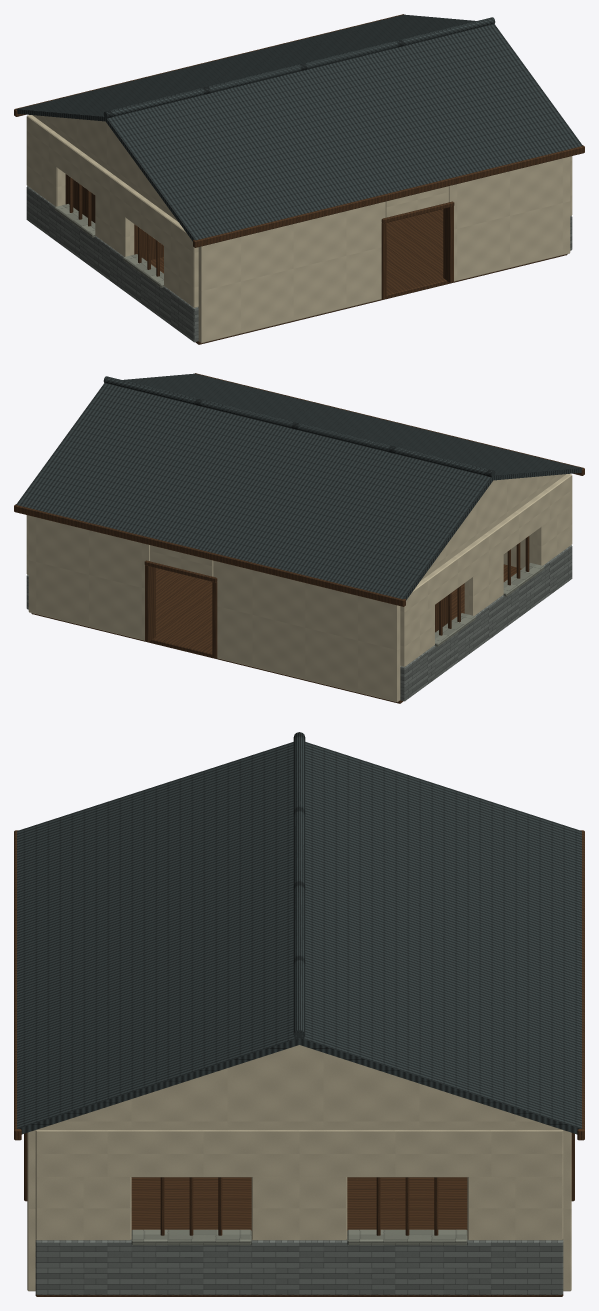
File: mission-building-game.glb
3 renders of one model, top to bottom at view 1: azimuth 30°, elevation 25°; view 2: azimuth 150°, elevation 25°; view 3: azimuth 270°, elevation 25°, orthographic. The views are drawn at different scales.
Parts seen in each view (by area): view 1: Mission_TileRoof_S, Mission_DoorWallSegment, Mission_DoorWallSegment.001, Mission_TileRoof_N, Mission_SideUpperWall, Mission_SideLowerWall, Mission_Floor, Mission_Gable, Mission_TileRoof_EaveFascia, Mission_TileRoof_Ridge, Mission_SideWindowPier.002, Mission_SideWindowPier.001 (+9 smaller); view 2: Mission_TileRoof_N, Mission_DoorWallSegment.002, Mission_DoorWallSegment.003, Mission_TileRoof_S, Mission_SideUpperWall, Mission_SideLowerWall, Mission_Floor, Mission_Gable, Mission_TileRoof_EaveFascia.001, Mission_TileRoof_Ridge, Mission_SideWindowPier, Mission_SideWindowPier.001 (+8 smaller); view 3: Mission_TileRoof_N, Mission_TileRoof_S, Mission_SideLowerWall.001, Mission_SideUpperWall.001, Mission_Gable.001, Mission_Floor, Mission_SideWindowPier.003, Mission_SideWindowPier.005, Mission_SideWindowPier.004, Mission_TileRoof_Ridge, Mission_WindowSill.002, Mission_WindowSill.003 (+4 smaller).
Part boxes in pixels (box(x1,y1,x2,y2)): Mission_TileRoof_S: box(105, 24, 582, 241); Mission_DoorWallSegment: box(198, 201, 385, 343); Mission_DoorWallSegment.001: box(449, 156, 570, 281); Mission_TileRoof_N: box(16, 14, 475, 121); Mission_SideUpperWall: box(26, 115, 198, 267); Mission_SideLowerWall: box(26, 186, 198, 342); Mission_Floor: box(151, 209, 567, 344); Mission_Gable: box(32, 115, 178, 221); Mission_TileRoof_EaveFascia: box(193, 145, 584, 247); Mission_TileRoof_Ridge: box(103, 17, 495, 118); Mission_SideWindowPier.002: box(26, 145, 65, 206); Mission_SideWindowPier.001: box(95, 196, 134, 256); Mission_TileRoof_N: box(16, 383, 493, 600); Mission_DoorWallSegment.002: box(213, 560, 400, 702); Mission_DoorWallSegment.003: box(28, 515, 149, 640); Mission_TileRoof_S: box(123, 373, 582, 480); Mission_SideUpperWall: box(400, 474, 572, 626); Mission_SideLowerWall: box(400, 545, 572, 701); Mission_Floor: box(31, 564, 521, 703); Mission_Gable: box(420, 474, 566, 580); Mission_TileRoof_EaveFascia.001: box(14, 504, 405, 606); Mission_TileRoof_Ridge: box(103, 376, 495, 477); Mission_SideWindowPier: box(533, 504, 572, 565); Mission_SideWindowPier.001: box(464, 555, 503, 615); Mission_TileRoof_N: box(299, 742, 581, 1134); Mission_TileRoof_S: box(17, 742, 299, 1134); Mission_SideLowerWall.001: box(35, 1239, 563, 1294); Mission_SideUpperWall.001: box(35, 1130, 563, 1177); Mission_Gable.001: box(36, 1045, 562, 1130); Mission_Floor: box(35, 1177, 563, 1296); Mission_SideWindowPier.003: box(35, 1176, 131, 1240); Mission_SideWindowPier.005: box(467, 1176, 563, 1240); Mission_SideWindowPier.004: box(251, 1177, 347, 1240); Mission_TileRoof_Ridge: box(293, 732, 305, 1040); Mission_WindowSill.002: box(131, 1229, 251, 1245); Mission_WindowSill.003: box(347, 1229, 467, 1245).
Bounding box in the file's own units: 14.8 × 6.31 × 11.9.
5 materials, 5 textured.
